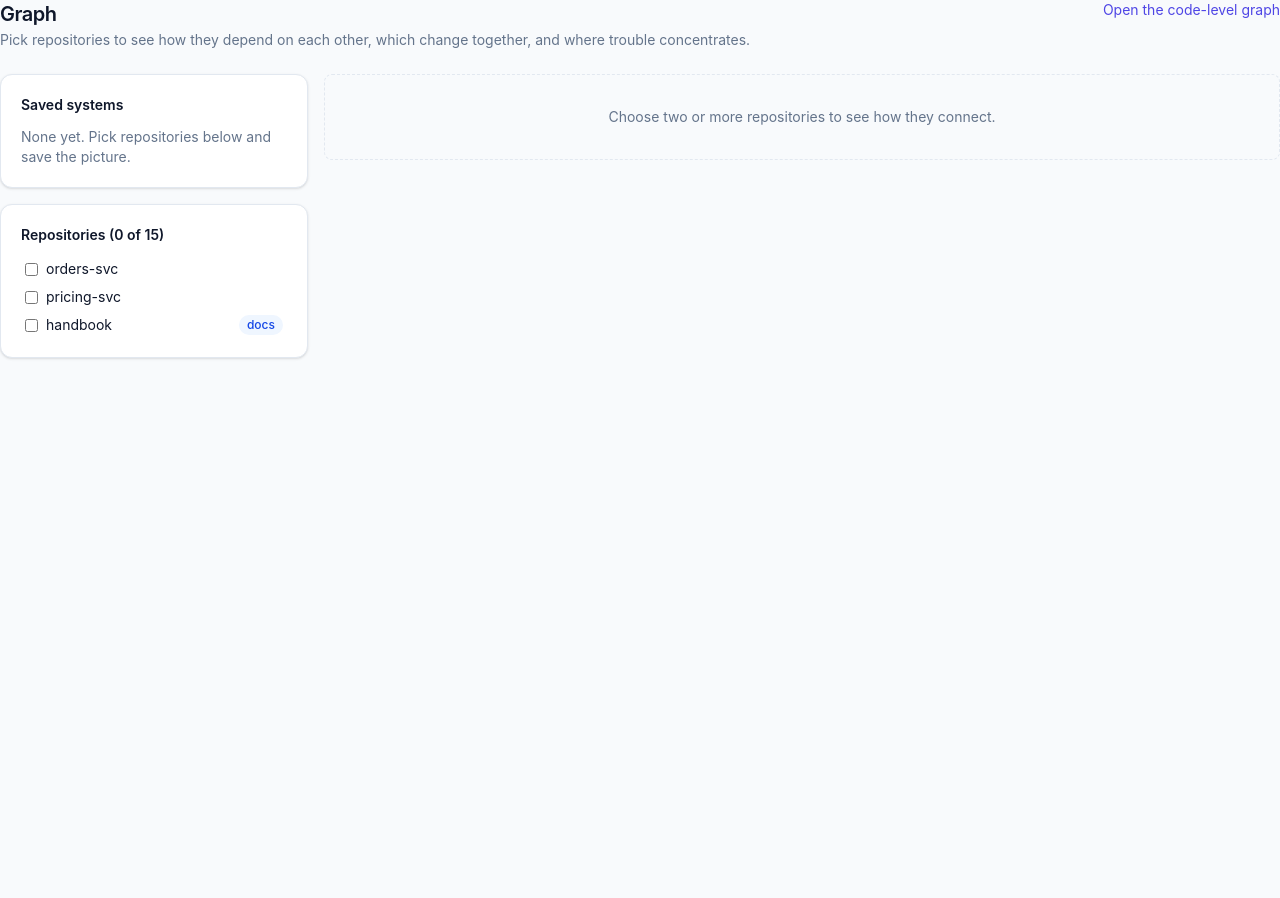
Test case: Graph: systems › says plainly when no link was found rather than drawing an empty picture
The width and height of the screenshot is (1280, 898).
What coordinates should you click on to do the following:
click the checkbox labelled "orders-svc"
I would click on:
 (32, 269)
Its box is [25,262,38,276].
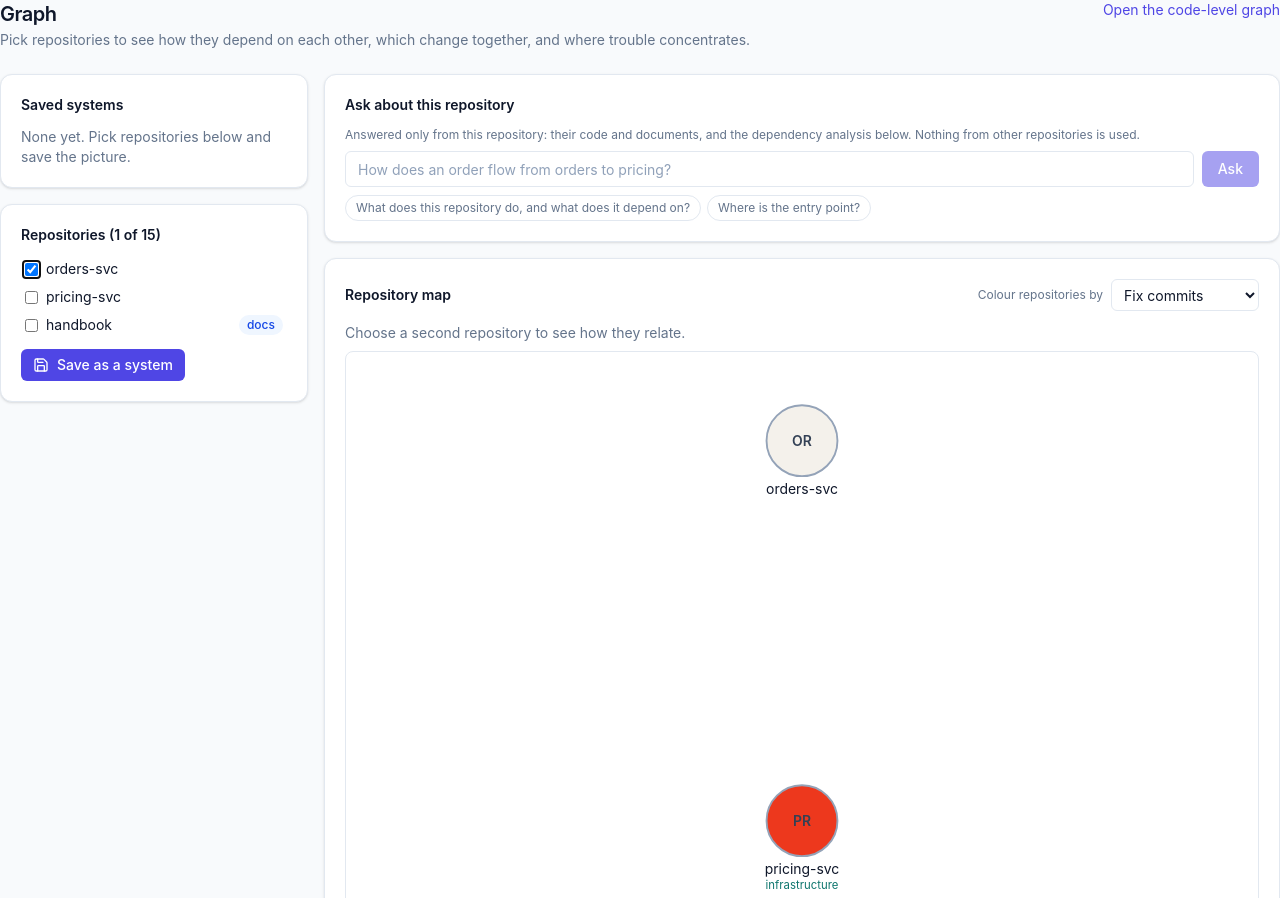
What coordinates should you click on to do the following:
click the checkbox labelled "pricing-svc"
I would click on:
 (32, 297)
Its box is [25,290,38,304].
(page scrolled)
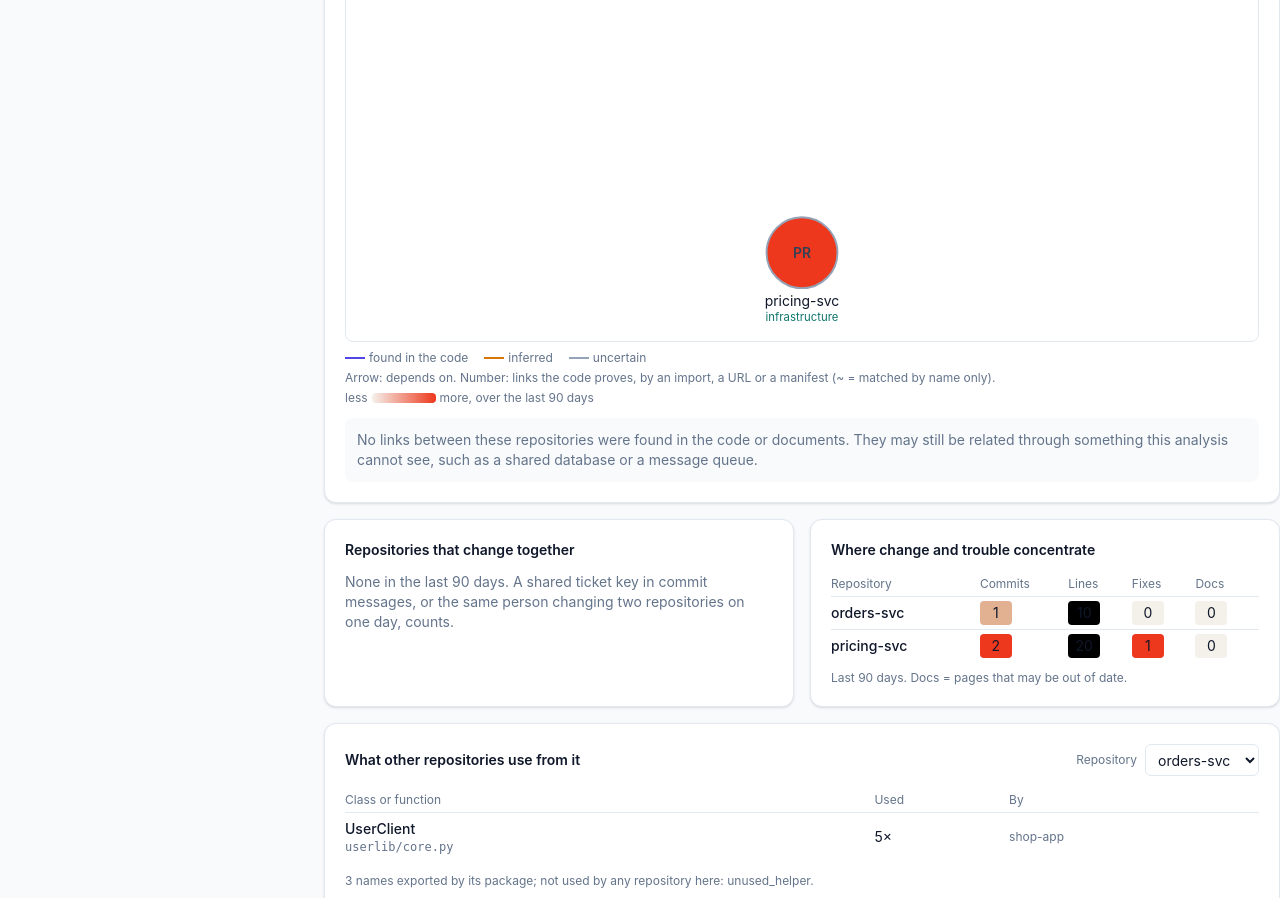
Result: the text "No links between these repositories were found" is shown at [357,431,1228,468]
